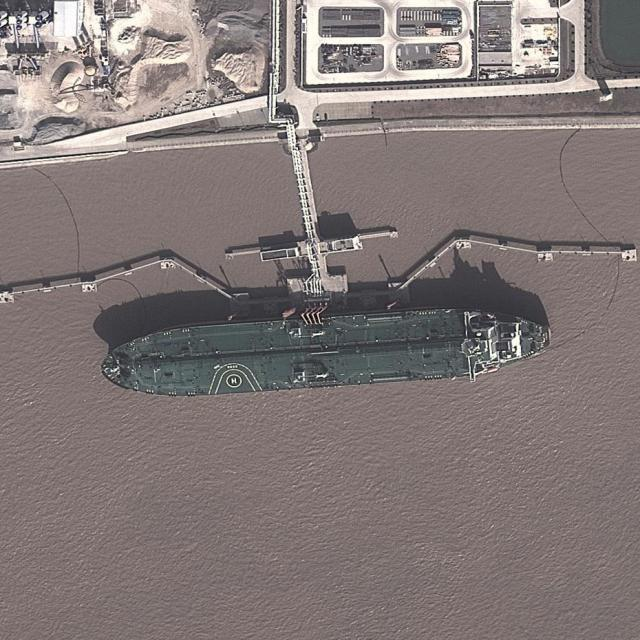Oil Tanker: (98, 301, 553, 403)
